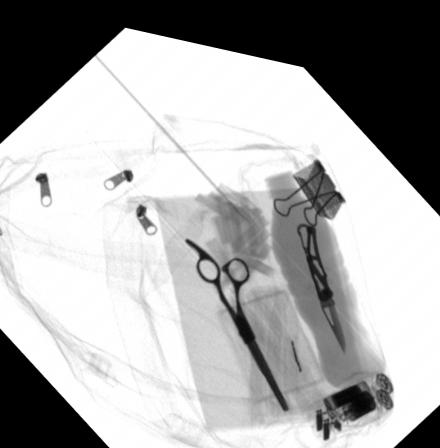Knife: (294, 206, 345, 338)
Scissors: (183, 227, 290, 399)
